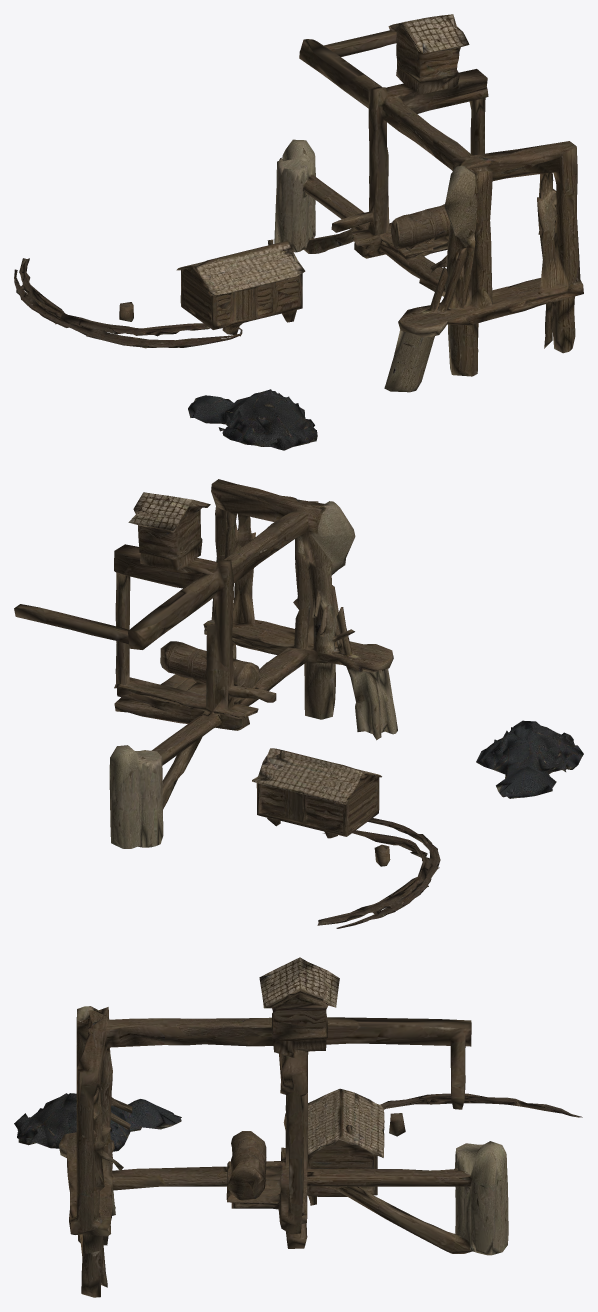
Rendered from erzmine.glb.
The picture shows the model from 3 angles, top to bottom: view 1: azimuth 30°, elevation 25°; view 2: azimuth 150°, elevation 25°; view 3: azimuth 270°, elevation 25°; orthographic projection. The views are drawn at different scales.
Size of the model in its own units: 1.69 by 1.12 by 1.9.
1 material, 1 textured.
